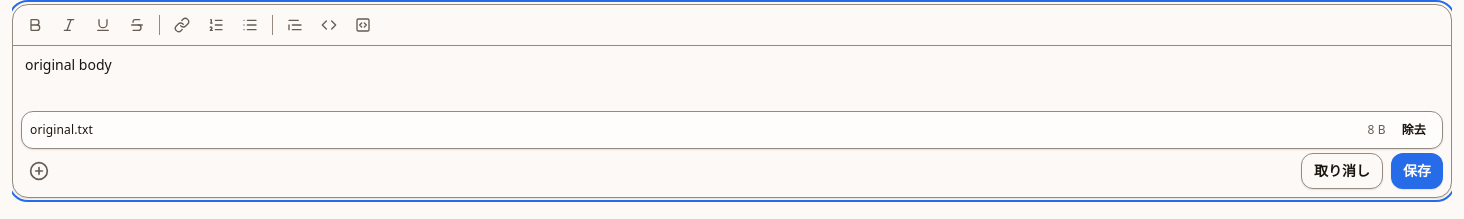
Test: PostEditor › 入力中に保存失敗が届いても本文を保ったままエラーを表示する
The width and height of the screenshot is (1464, 219).
Replace the text in the text box with test id "composer-input" with "user is typing this". click: coordinates (732, 76)
box: x1=13 y1=46 x2=1451 y2=105
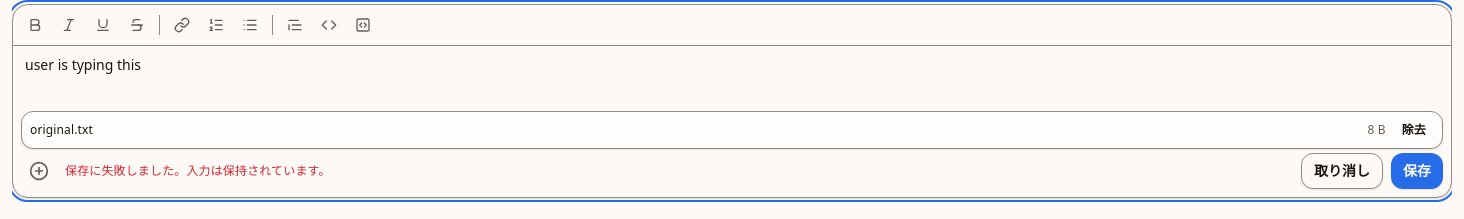
Expected: the message reads "保存に失敗しました。入力は保持されています。", x1=65 y1=162 x2=331 y2=179
